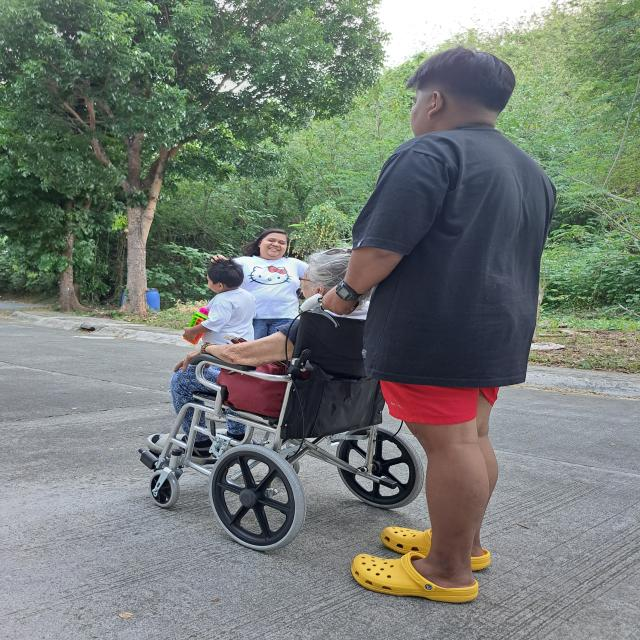wheelchairs: (132, 293, 432, 552)
